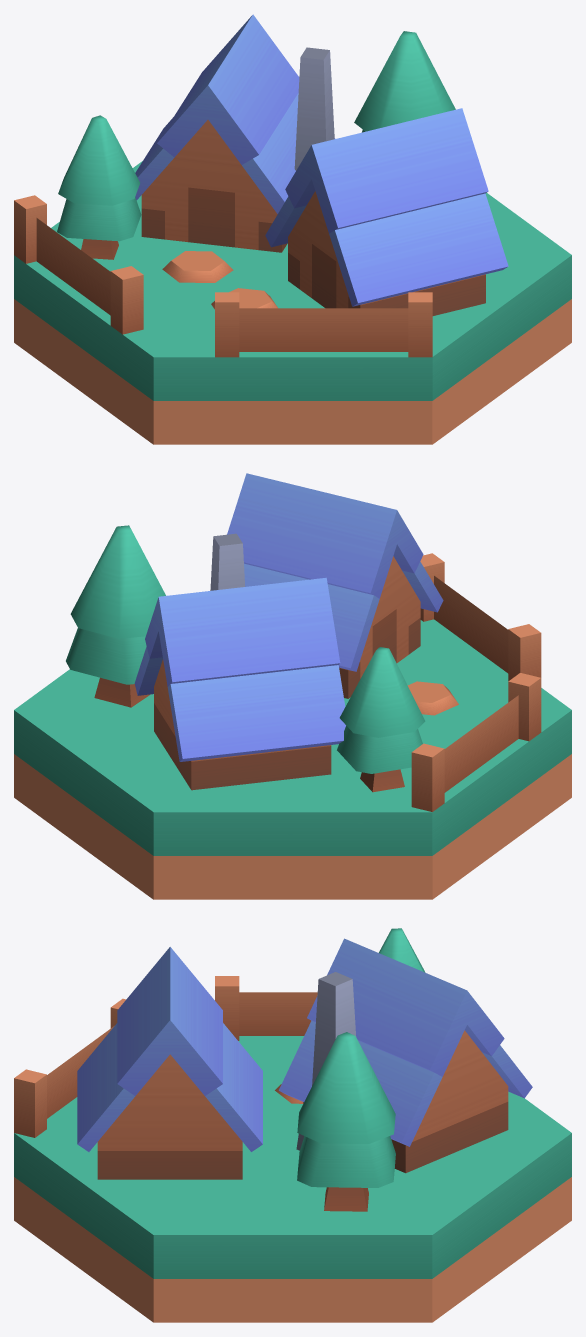
Rendered from building-village.fbx.
3 renders of one model, top to bottom at view 1: azimuth 30°, elevation 25°; view 2: azimuth 150°, elevation 25°; view 3: azimuth 270°, elevation 25°, orthographic.
Parts seen in each view (by area): view 1: building_village; view 2: building_village; view 3: building_village.
Part boxes in pixels (bbox=[...]): building_village: bbox=[14, 14, 571, 444]; building_village: bbox=[14, 473, 571, 899]; building_village: bbox=[14, 928, 571, 1322].
Size of the model in its own units: 100 by 60 by 115.
1 material, 1 textured.
